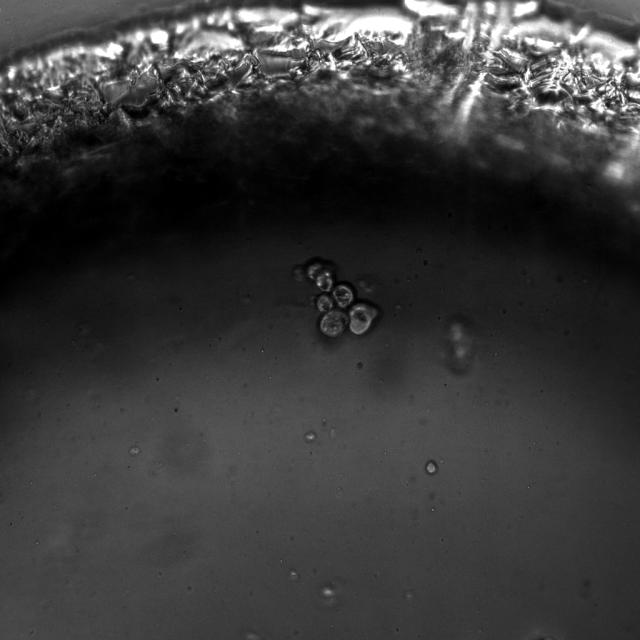organoid: (293, 260, 379, 338), (440, 316, 474, 373)
